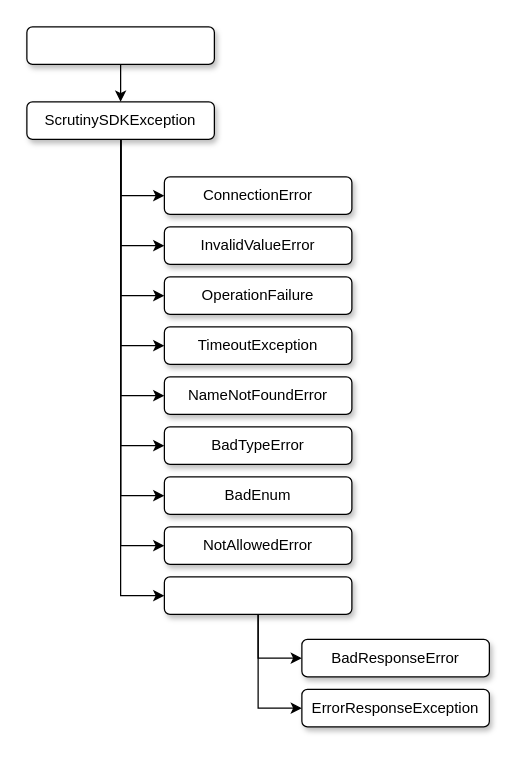
This 519x758 diagram has some shape labels left out. Here are the shapes that lost their labels. From the top down, the centre of each, then its label:
At [121,47]: "Exception".
At [258,597]: "ApiError".
